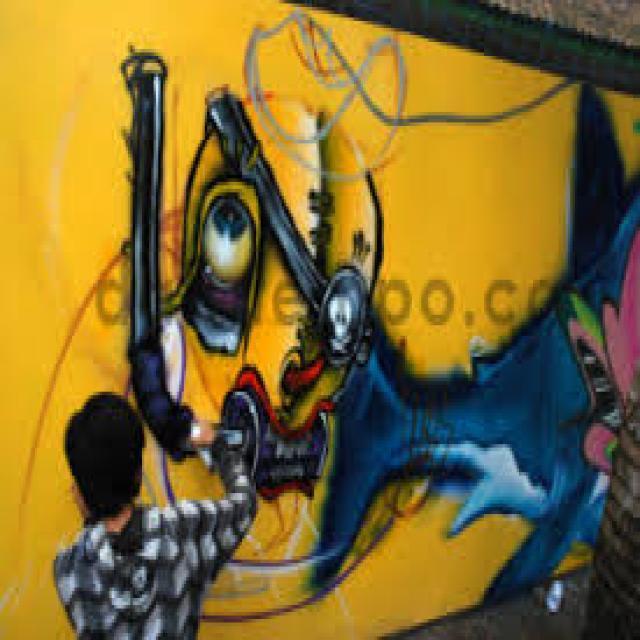-: (123, 12, 640, 602)
